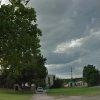Tree: (2, 0, 48, 85)
